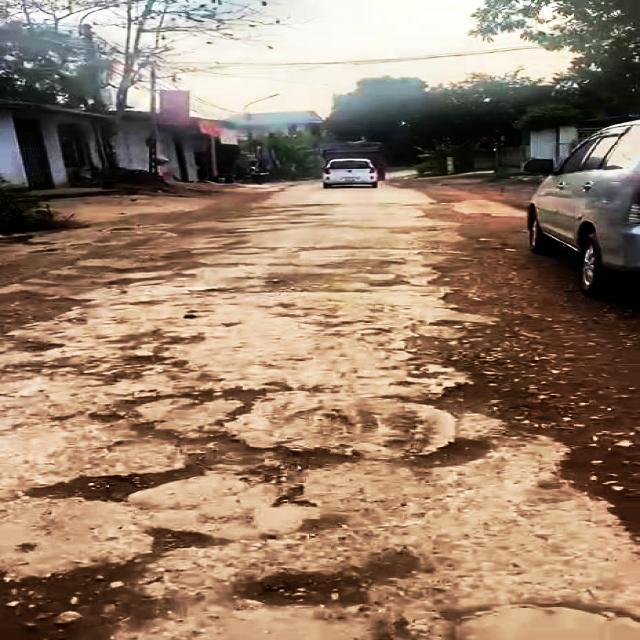pothole: (19, 434, 360, 511), (404, 341, 574, 436), (0, 546, 168, 639), (106, 381, 294, 440), (239, 566, 378, 612), (0, 283, 98, 334), (407, 434, 495, 475)
